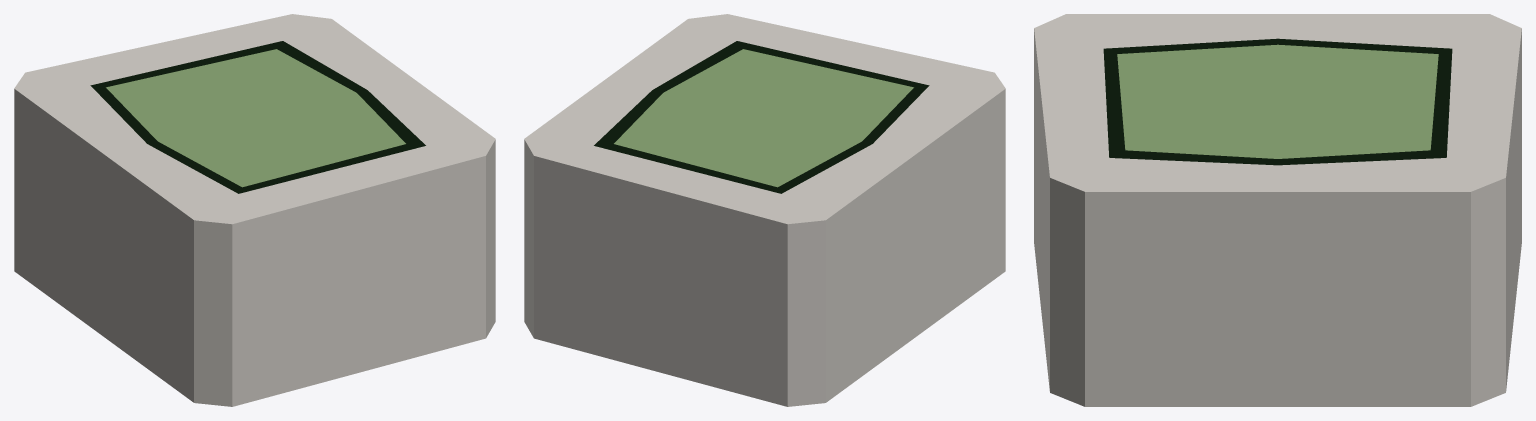
Rendered from uramakiCocumber.fbx.
3 renders of one model, left to right at view 1: azimuth 30°, elevation 25°; view 2: azimuth 150°, elevation 25°; view 3: azimuth 270°, elevation 25°, orthographic. The views are drawn at different scales.
Visible parts, largest first — view 1: uramakiCocumber; view 2: uramakiCocumber; view 3: uramakiCocumber.
Part boxes in pixels (box(x1,y1,x2,y2)): uramakiCocumber: box(14, 14, 495, 406); uramakiCocumber: box(524, 14, 1005, 406); uramakiCocumber: box(1034, 14, 1521, 406).
Bounding box in the file's own units: 5.55 × 3.13 × 6.43.
1 material, 1 textured.
